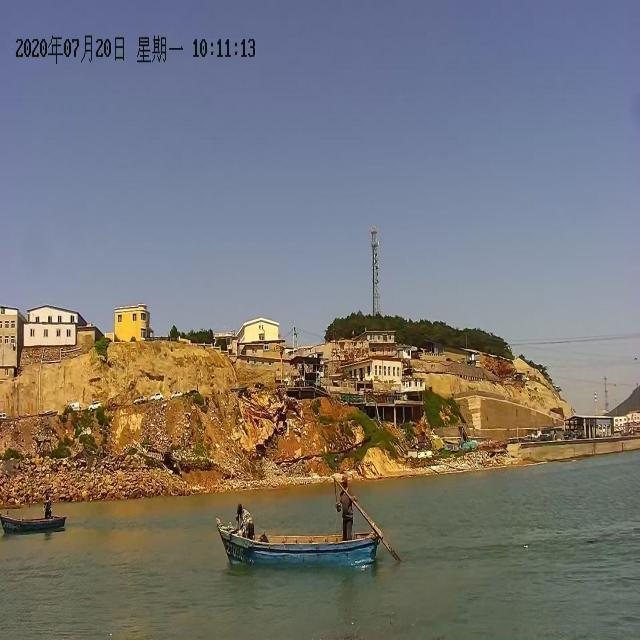ship2: (214, 477, 383, 572), (0, 517, 65, 536)
